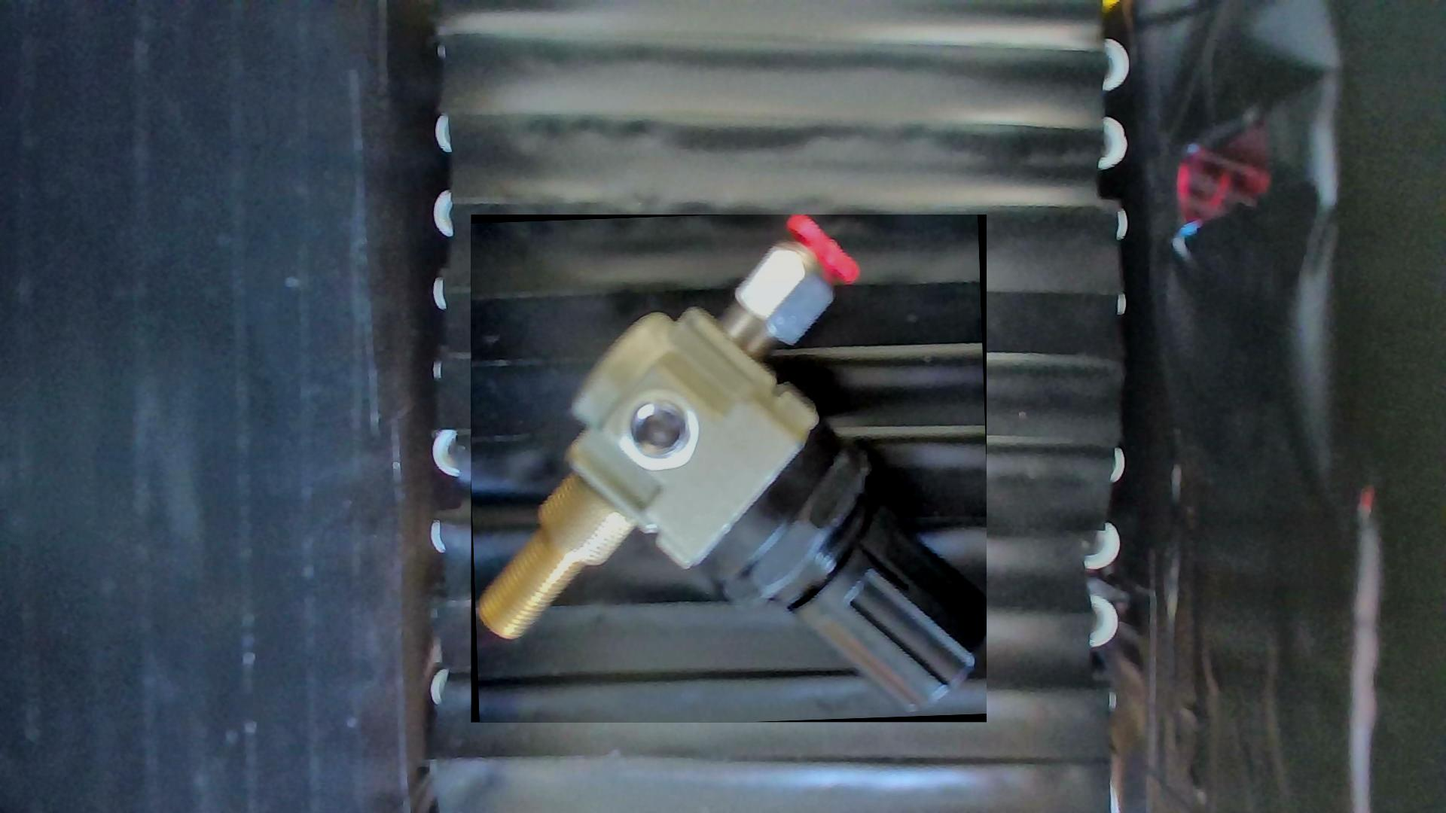regulator: (470, 215, 986, 723)
